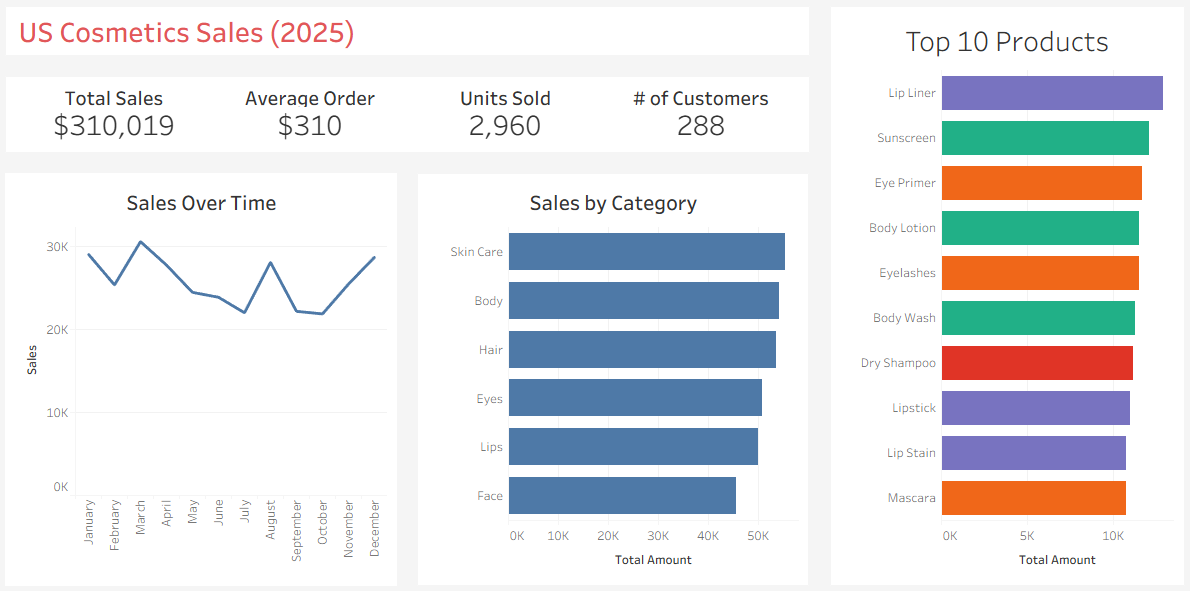

Layout of this report page (visuals, bound fields, positions):
{"tool":"tableau","page":{"name":"US Cosmetics Sales Dashboard","canvas":[1200,600],"ordinal":0},"visuals":[{"type":"text","box":[0,0,825,70]},{"type":"worksheet","title":"Top 10 Products","mark":"Bar","rows":["product_name"],"cols":["total_amount"],"box":[825,0,375,600]},{"type":"legend","title":"Top 10 Products","param":"[federated.1ot64b41muzhym12lutuw121efxi].[none:category:nk]","box":[1032,8,160,106]},{"type":"worksheet","title":"KPIs","mark":"Automatic","box":[0,70,825,97]},{"type":"filter","title":"Top 10 Products","param":"[federated.1ot64b41muzhym12lutuw121efxi].[none:product_name:nk]","box":[1032,114,160,478]},{"type":"worksheet","title":"Sales Over Time","mark":"Line","rows":["total_amount"],"cols":["order_date"],"box":[0,167,412.5,433]},{"type":"worksheet","title":"Sales by Category","mark":"Bar","rows":["category"],"cols":["total_amount"],"box":[412.5,167,412.5,433]}]}

Visuals, with their boxes in screenshot pixels (x1, y1, x2, y2), scaled from the page's 1200x600 canvas onto the 1190x591 screenshot:
text: region(0, 0, 818, 69)
"Top 10 Products" worksheet (Bar marks): region(818, 0, 1189, 590)
"Top 10 Products" legend: region(1023, 8, 1182, 112)
"KPIs" worksheet: region(0, 69, 818, 164)
"Top 10 Products" filter: region(1023, 112, 1182, 583)
"Sales Over Time" worksheet (Line marks): region(0, 164, 409, 590)
"Sales by Category" worksheet (Bar marks): region(409, 164, 818, 590)
